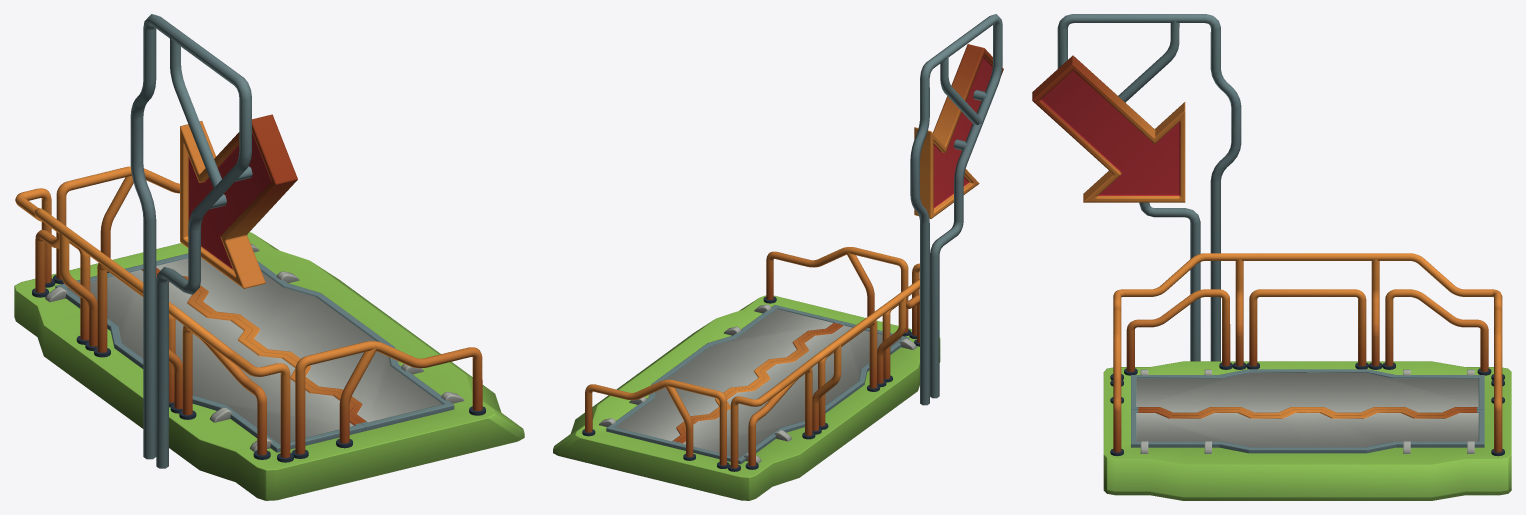
Rendered from SM_dropoff_zone.fbx.
3 views of the same model, side by side, from view 1: azimuth 30°, elevation 25°; view 2: azimuth 150°, elevation 25°; view 3: azimuth 270°, elevation 25° (orthographic). The views are drawn at different scales.
Visible parts, largest first — view 1: SM_dropoff_zone, Pipe Curve, Plane.002, Plane.005, Plane.001, Plane.004, Pipe Curve.001, Circle; view 2: SM_dropoff_zone, Pipe Curve, Plane.002, Plane.005, Plane.001, Plane.004, Pipe Curve.001, Circle; view 3: SM_dropoff_zone, Plane.001, Pipe Curve, Plane.002, Plane.004, Plane.005, Pipe Curve.001, Circle.
Part boxes in pixels (x1,y1,x2,y2): SM_dropoff_zone: (14,232,524,500); Pipe Curve: (15,166,482,457); Plane.002: (156,253,454,430); Plane.005: (130,14,252,468); Plane.001: (55,264,365,452); Plane.004: (180,114,297,288); Pipe Curve.001: (32,266,485,462); Circle: (45,243,464,451); SM_dropoff_zone: (553,295,940,500); Pipe Curve: (585,247,919,468); Plane.002: (606,305,841,447); Plane.005: (910,14,1002,405); Plane.001: (673,321,909,464); Plane.004: (914,44,1003,218); Pipe Curve.001: (582,296,919,471); Circle: (599,304,916,463); SM_dropoff_zone: (1103,361,1511,500); Plane.001: (1131,369,1484,414); Pipe Curve: (1113,253,1502,452); Plane.002: (1131,409,1484,453); Plane.004: (1032,55,1185,202); Plane.005: (1057,14,1241,361); Pipe Curve.001: (1110,362,1504,456); Circle: (1140,369,1474,453).
Size of the model in its own units: 447 by 585 by 705.
